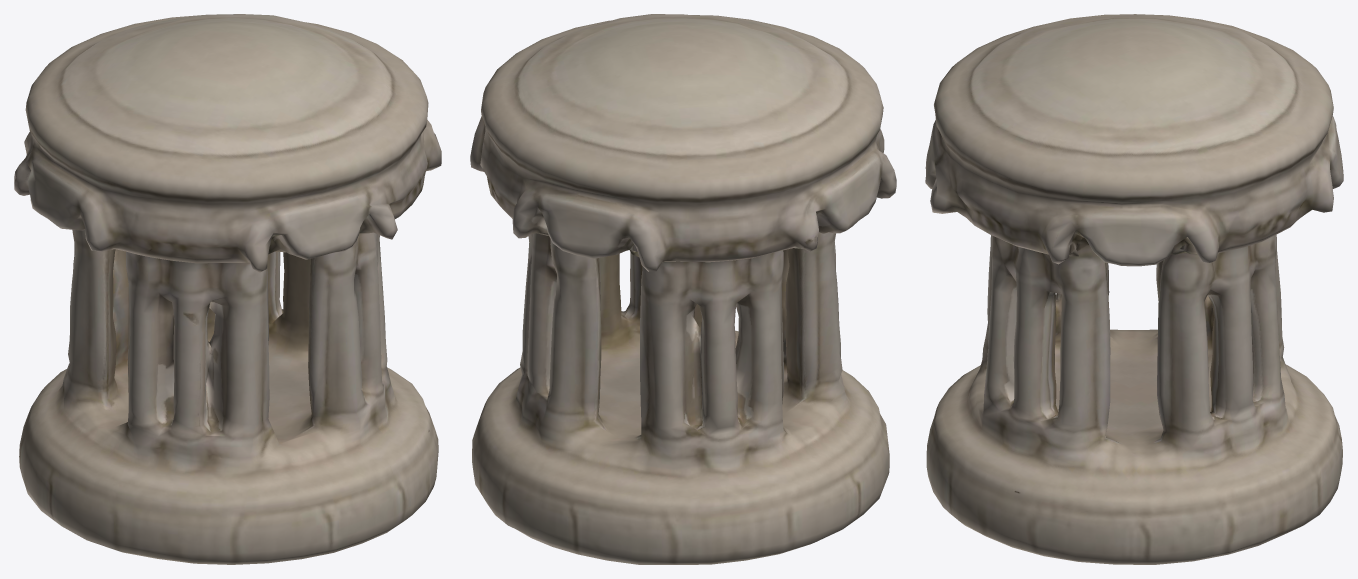
File: 36c6d3c6c3e0_ea88aa81c502_megasus__3d_asset_0.glb
The picture shows the model from 3 angles, left to right: view 1: azimuth 30°, elevation 25°; view 2: azimuth 150°, elevation 25°; view 3: azimuth 270°, elevation 25°; orthographic projection.
Visible parts, largest first — view 1: mesh; view 2: mesh; view 3: mesh.
Boxes of the visible parts, x1=… form: mesh: x1=14, y1=14, x2=441, y2=564; mesh: x1=470, y1=14, x2=896, y2=564; mesh: x1=925, y1=14, x2=1343, y2=564.
Size of the model in its own units: 0.8644 by 0.9987 by 0.8683.
Materials: 1 (1 with a texture image).
